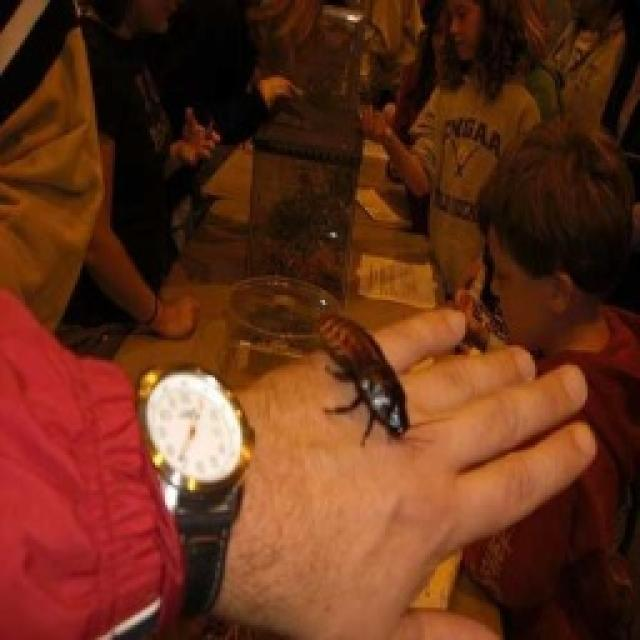cockroach: (311, 306, 415, 447)
